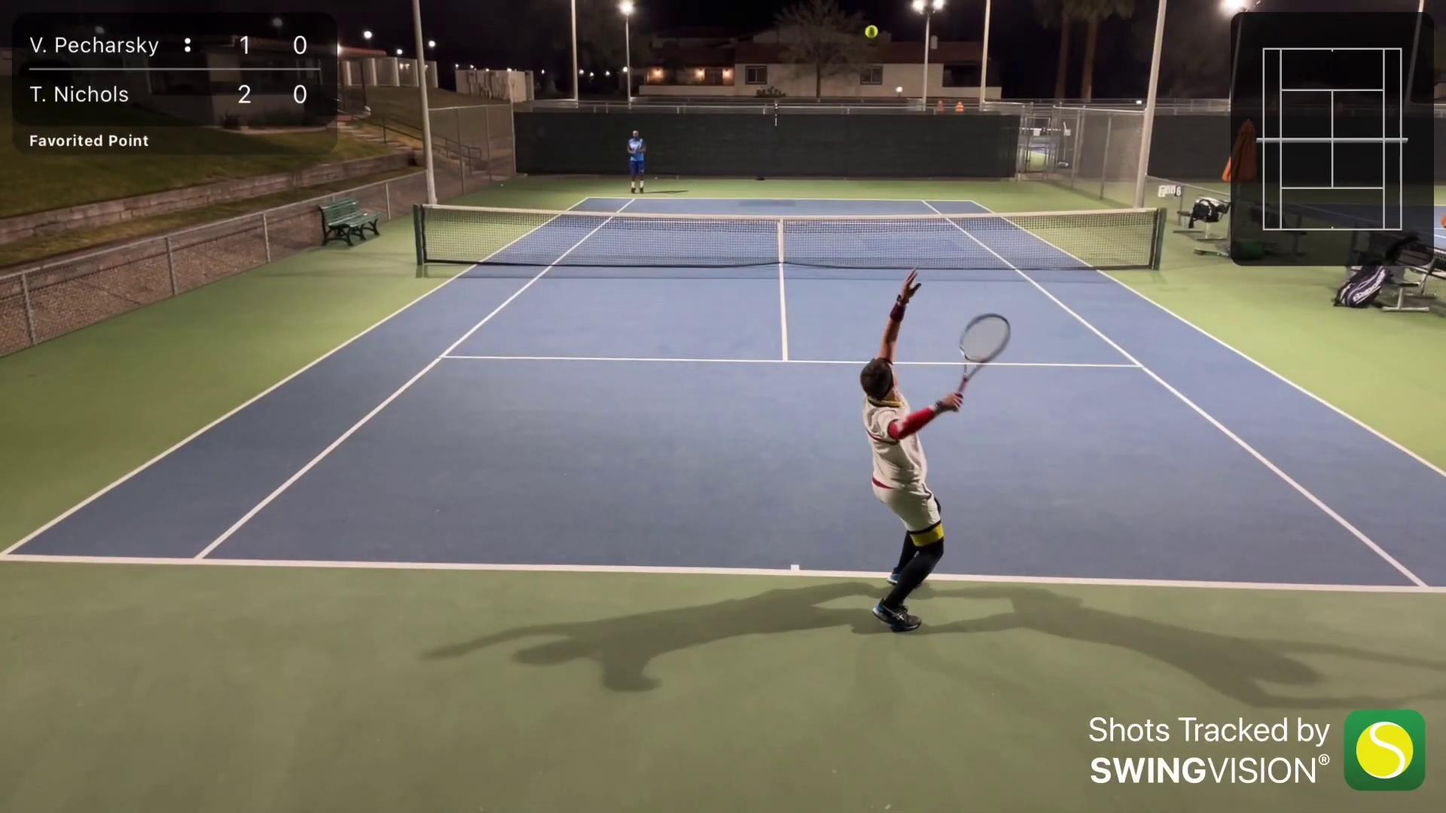ball: (865, 23, 878, 39)
